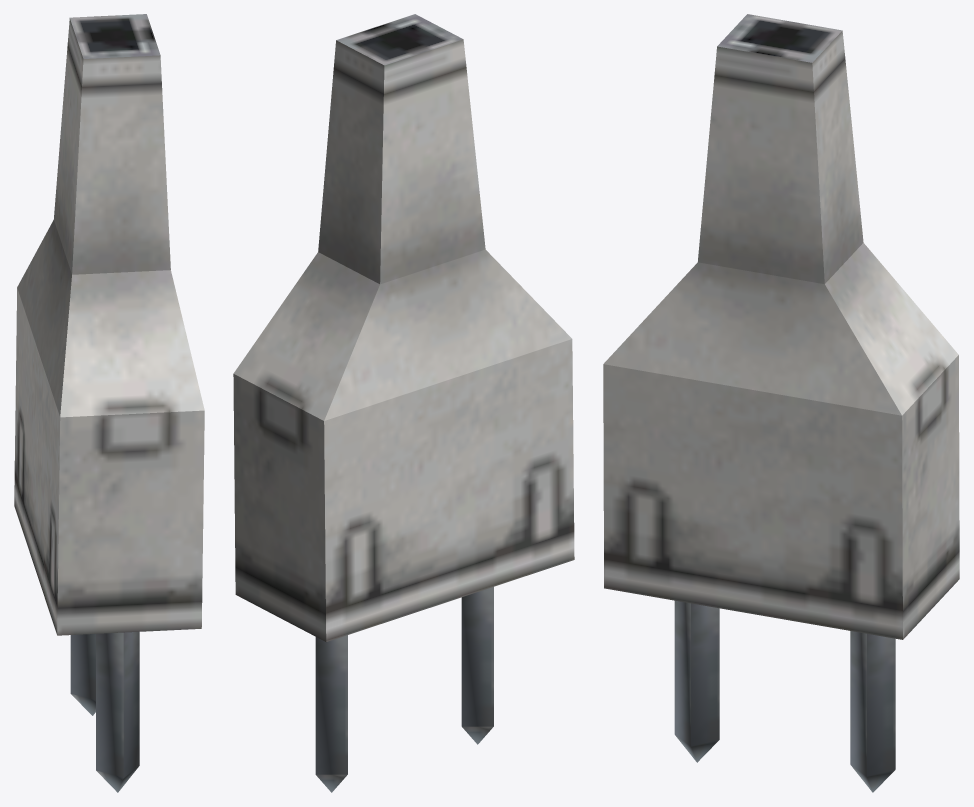
The model's file is cable_accessory_power_cord_plug.dae.
3 views of the same model, side by side, from view 1: azimuth 30°, elevation 25°; view 2: azimuth 150°, elevation 25°; view 3: azimuth 270°, elevation 25° (orthographic). The views are drawn at different scales.
Parts seen in each view (by area): view 1: Mesh__2_; view 2: Mesh__2_; view 3: Mesh__2_.
Part boxes in pixels (<box>): Mesh__2_: <box>14,14,204,792</box>; Mesh__2_: <box>233,14,574,792</box>; Mesh__2_: <box>603,14,959,792</box>.
Bounding box in the file's own units: 0.0556 × 0.1727 × 0.075.
